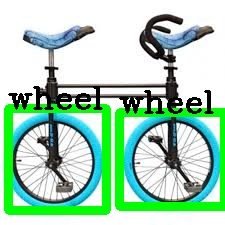wheel: (8, 108, 106, 210), (119, 112, 224, 206)
